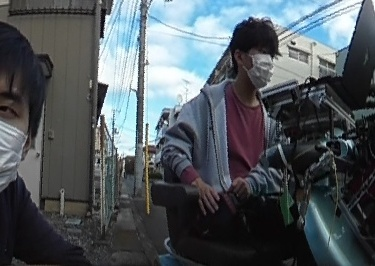person: (161, 24, 290, 239)
